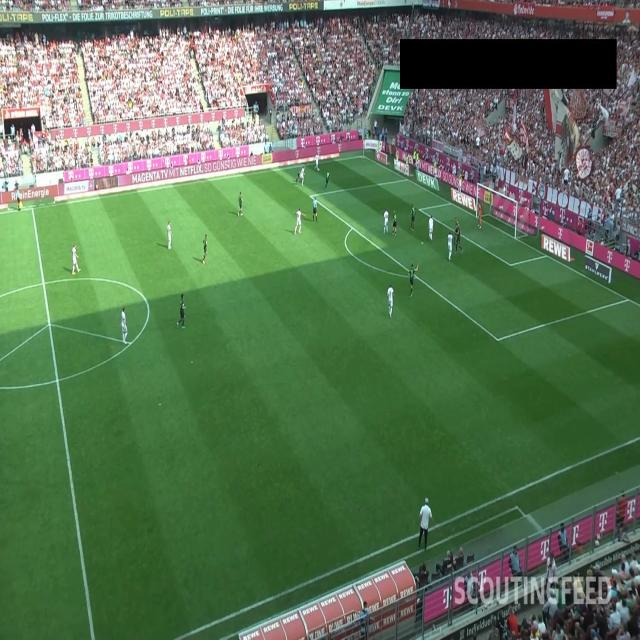ball: (318, 167, 320, 172)
